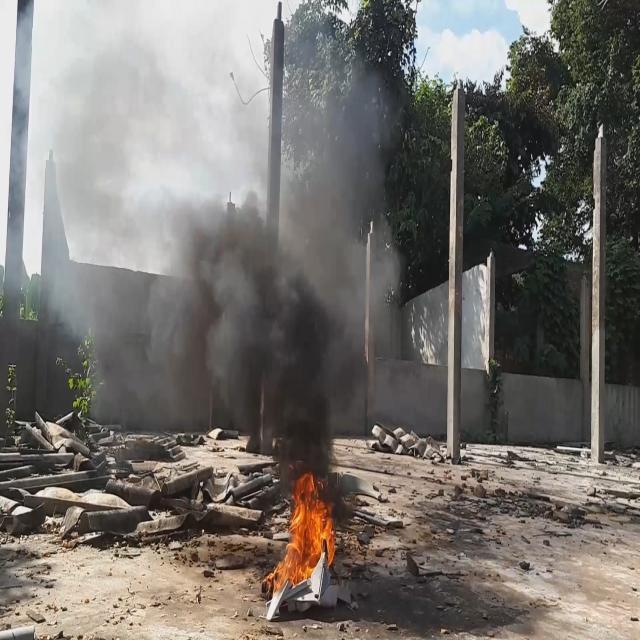Fire: (262, 464, 340, 594)
Smoke: (48, 42, 404, 510)
